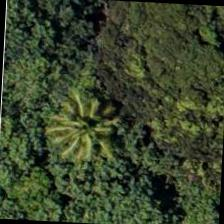Kelapa_Sawit: (46, 78, 141, 172)
